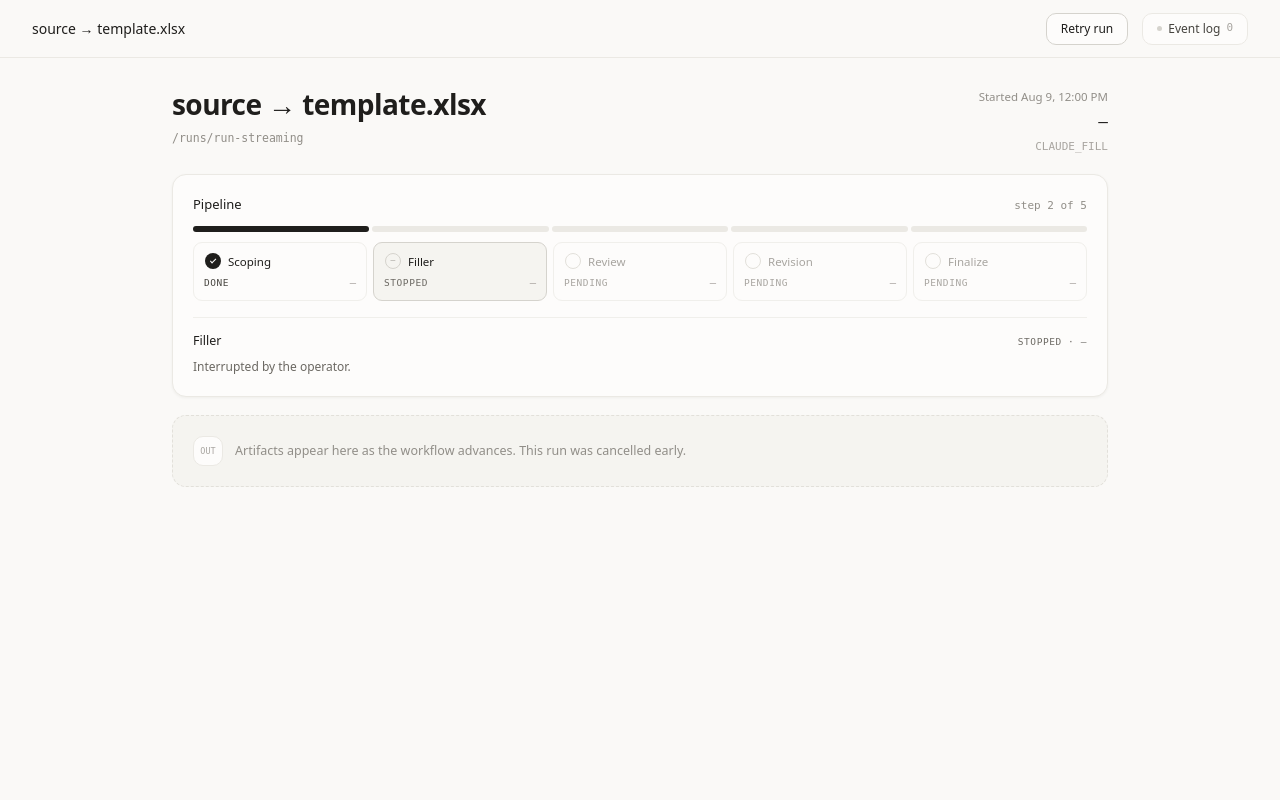
Test: run progress › says so when a run's recorded log cannot be read
Step 1. Click the button "Event log 0" → coordinates (1195, 28), box [1142, 12, 1248, 44]
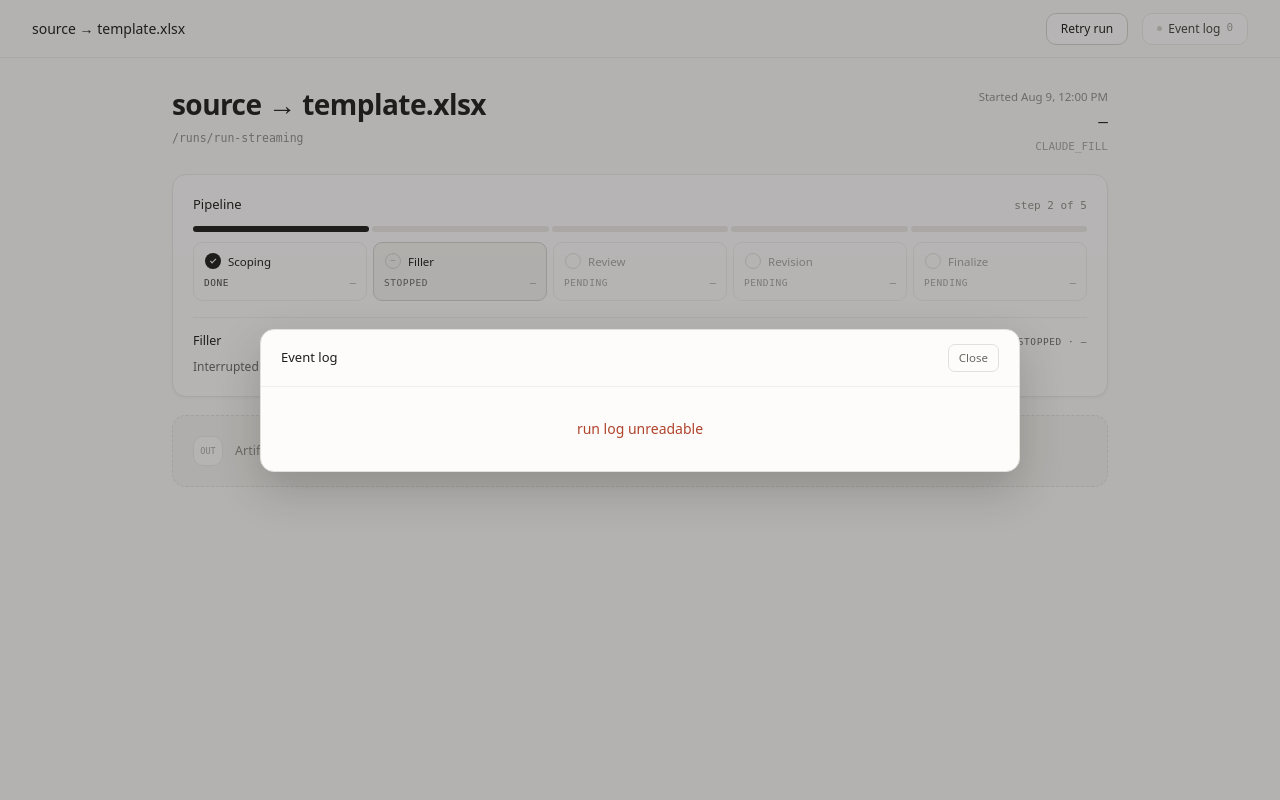
Expected: the text "run log unreadable" is shown, [577, 418, 703, 438]
